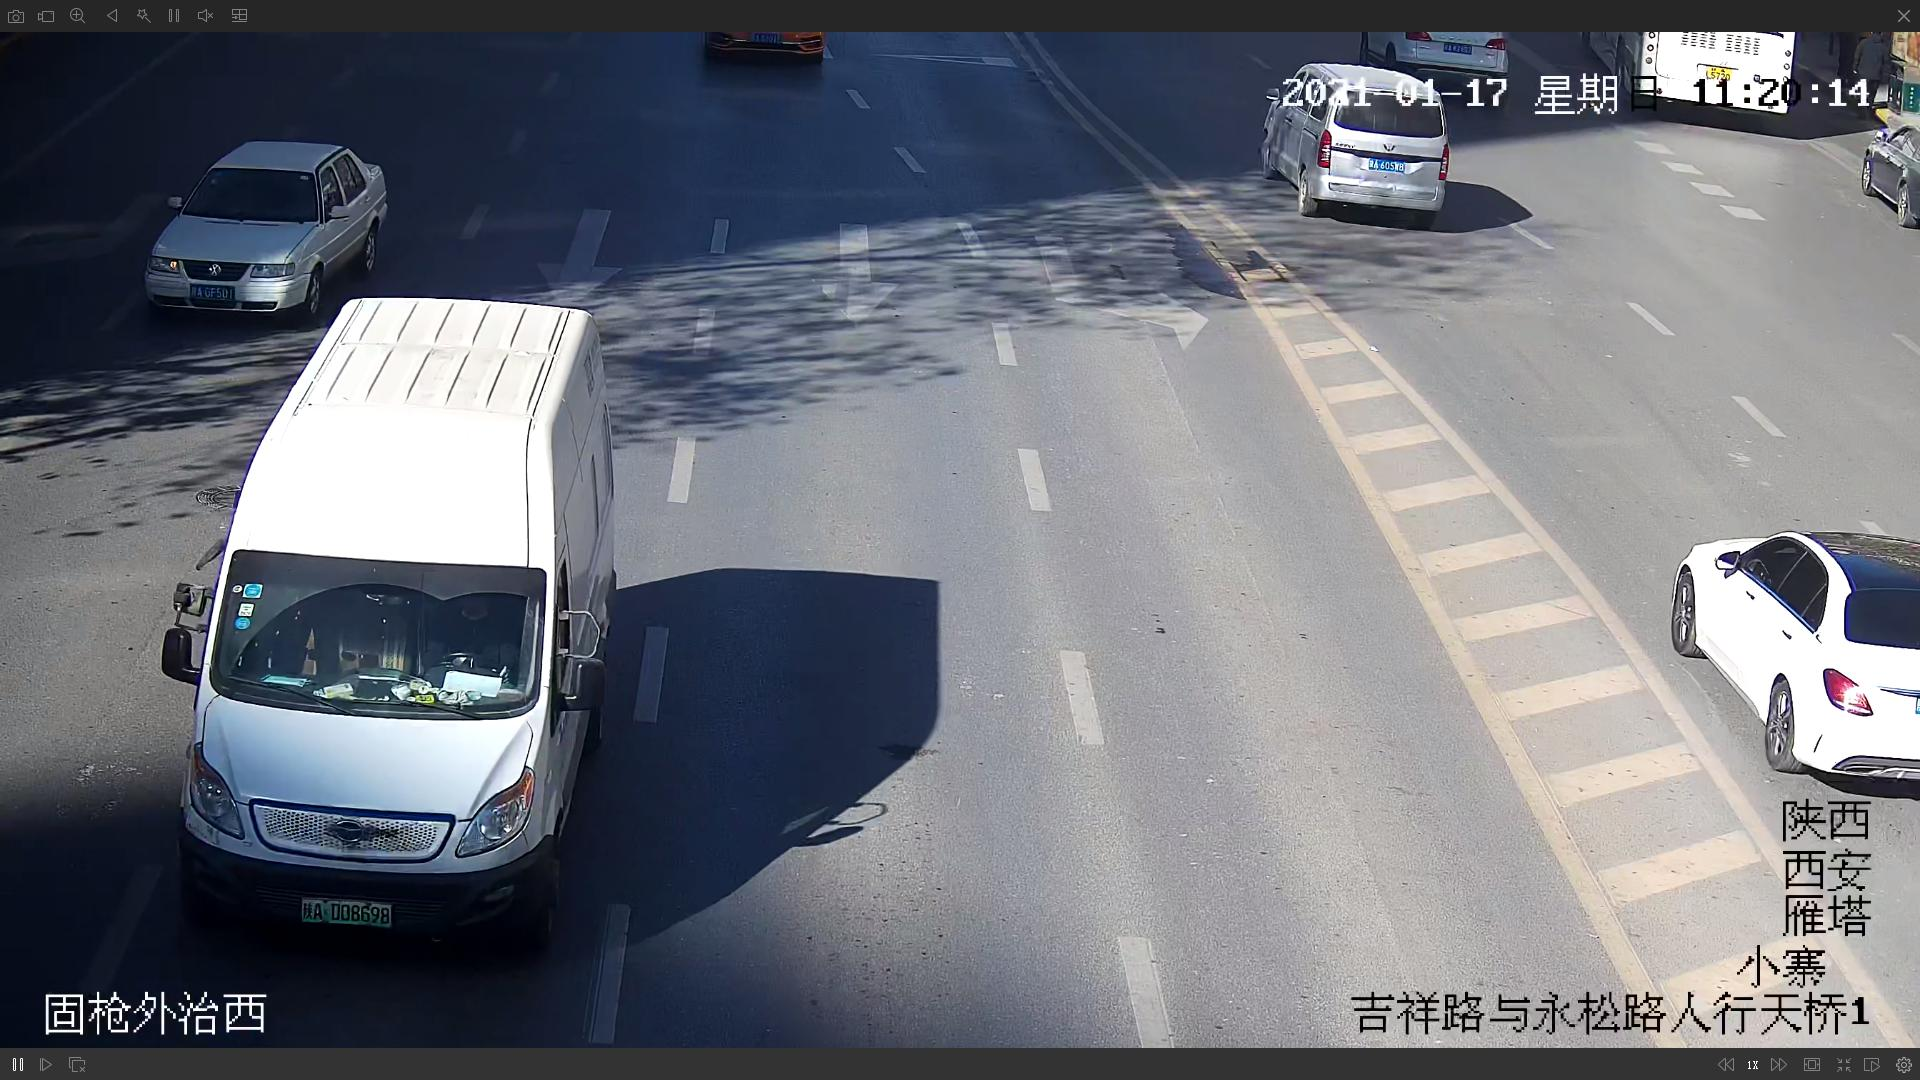white: (156, 293, 622, 953), (148, 140, 386, 311)
